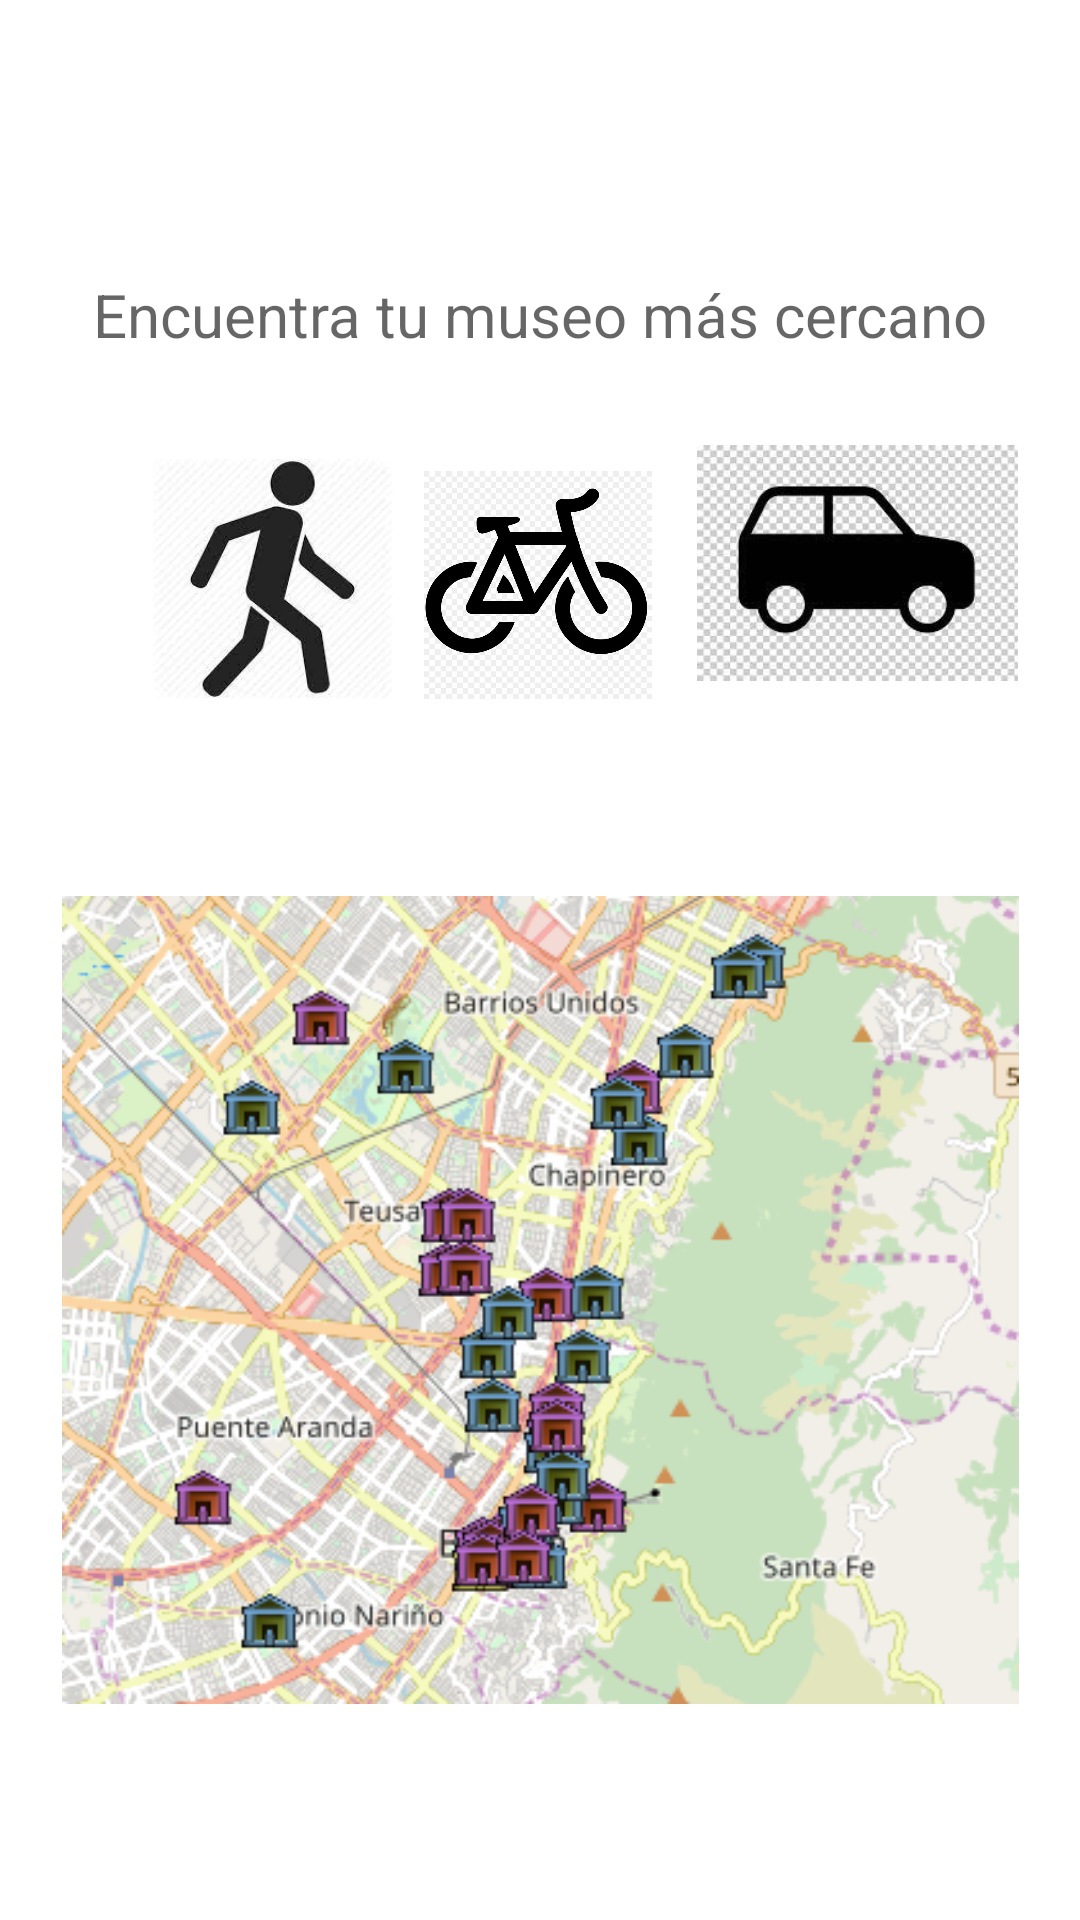

Locate icon controls on the screen. Image size 1080*1920, boxes as (x1, y1, x2, y2).
car: (697, 445, 1018, 681)
